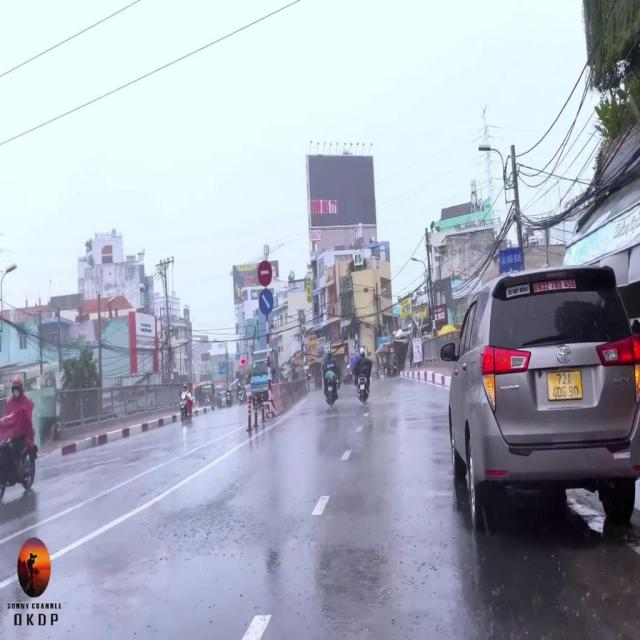cam_xe_di_nguoc_chieu: (258, 261, 273, 287)
huong_phai_di_vuot_chuong_ngai_vat_phai: (259, 289, 273, 315)
